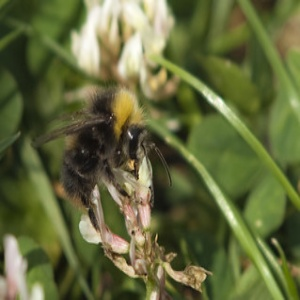bee: (34, 83, 173, 211)
